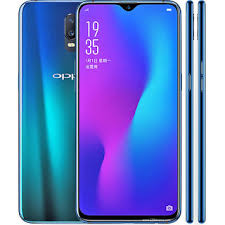oppo: (76, 1, 180, 222), (14, 1, 77, 222)
